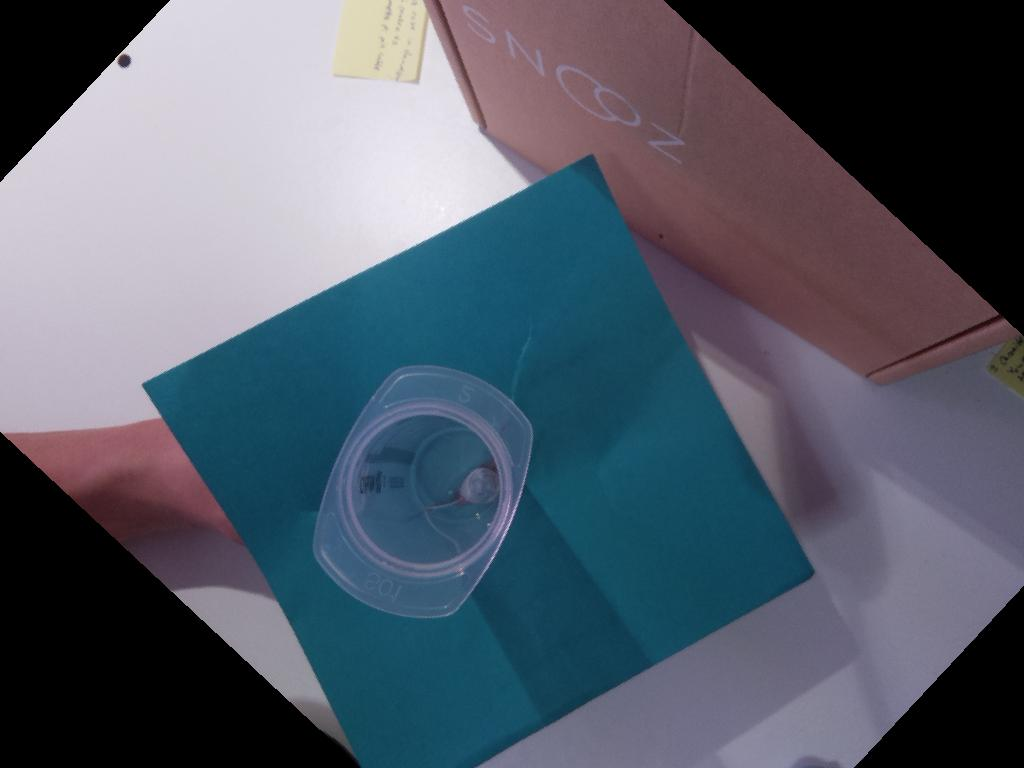clean: (310, 364, 533, 619)
